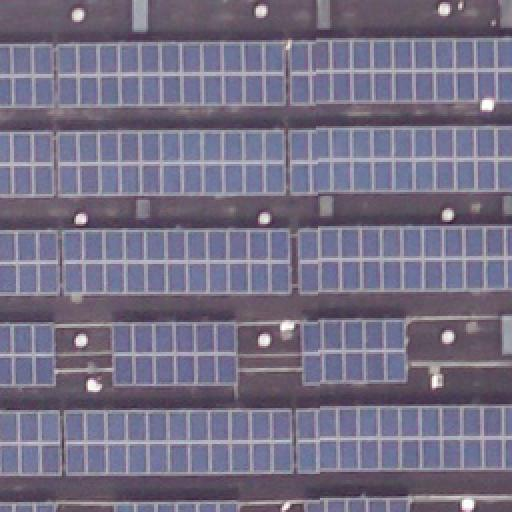solar-panel: (67, 408, 293, 476), (288, 128, 512, 196), (56, 132, 284, 196), (58, 44, 286, 108), (61, 233, 291, 295), (296, 407, 512, 473), (289, 42, 511, 106), (297, 227, 511, 293), (113, 325, 239, 387), (299, 320, 405, 384), (0, 412, 60, 476), (0, 232, 56, 296), (1, 43, 55, 109), (0, 325, 56, 387), (0, 135, 52, 201), (309, 497, 411, 511), (116, 504, 240, 512), (0, 504, 56, 512)
